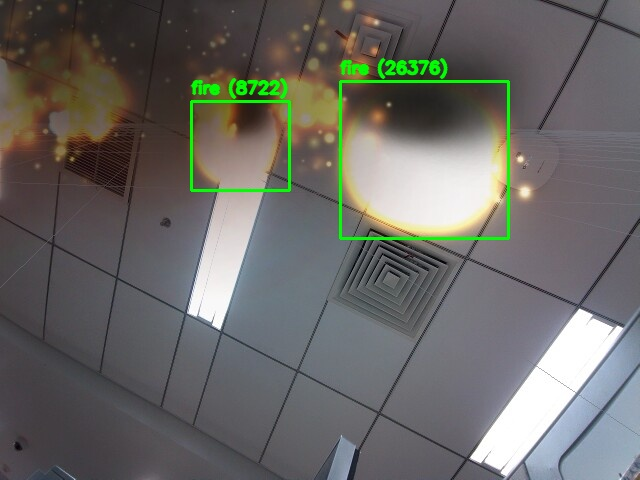fire: (340, 81, 508, 238), (191, 101, 289, 190)
